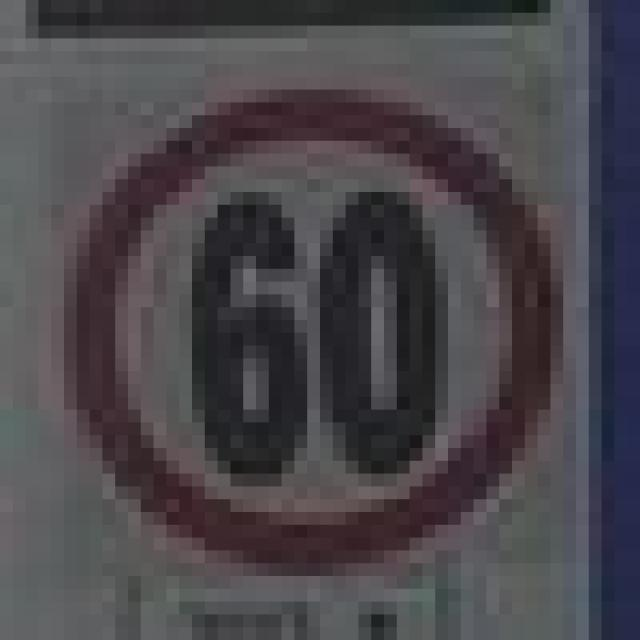speed_limit_40: (52, 77, 550, 563)
